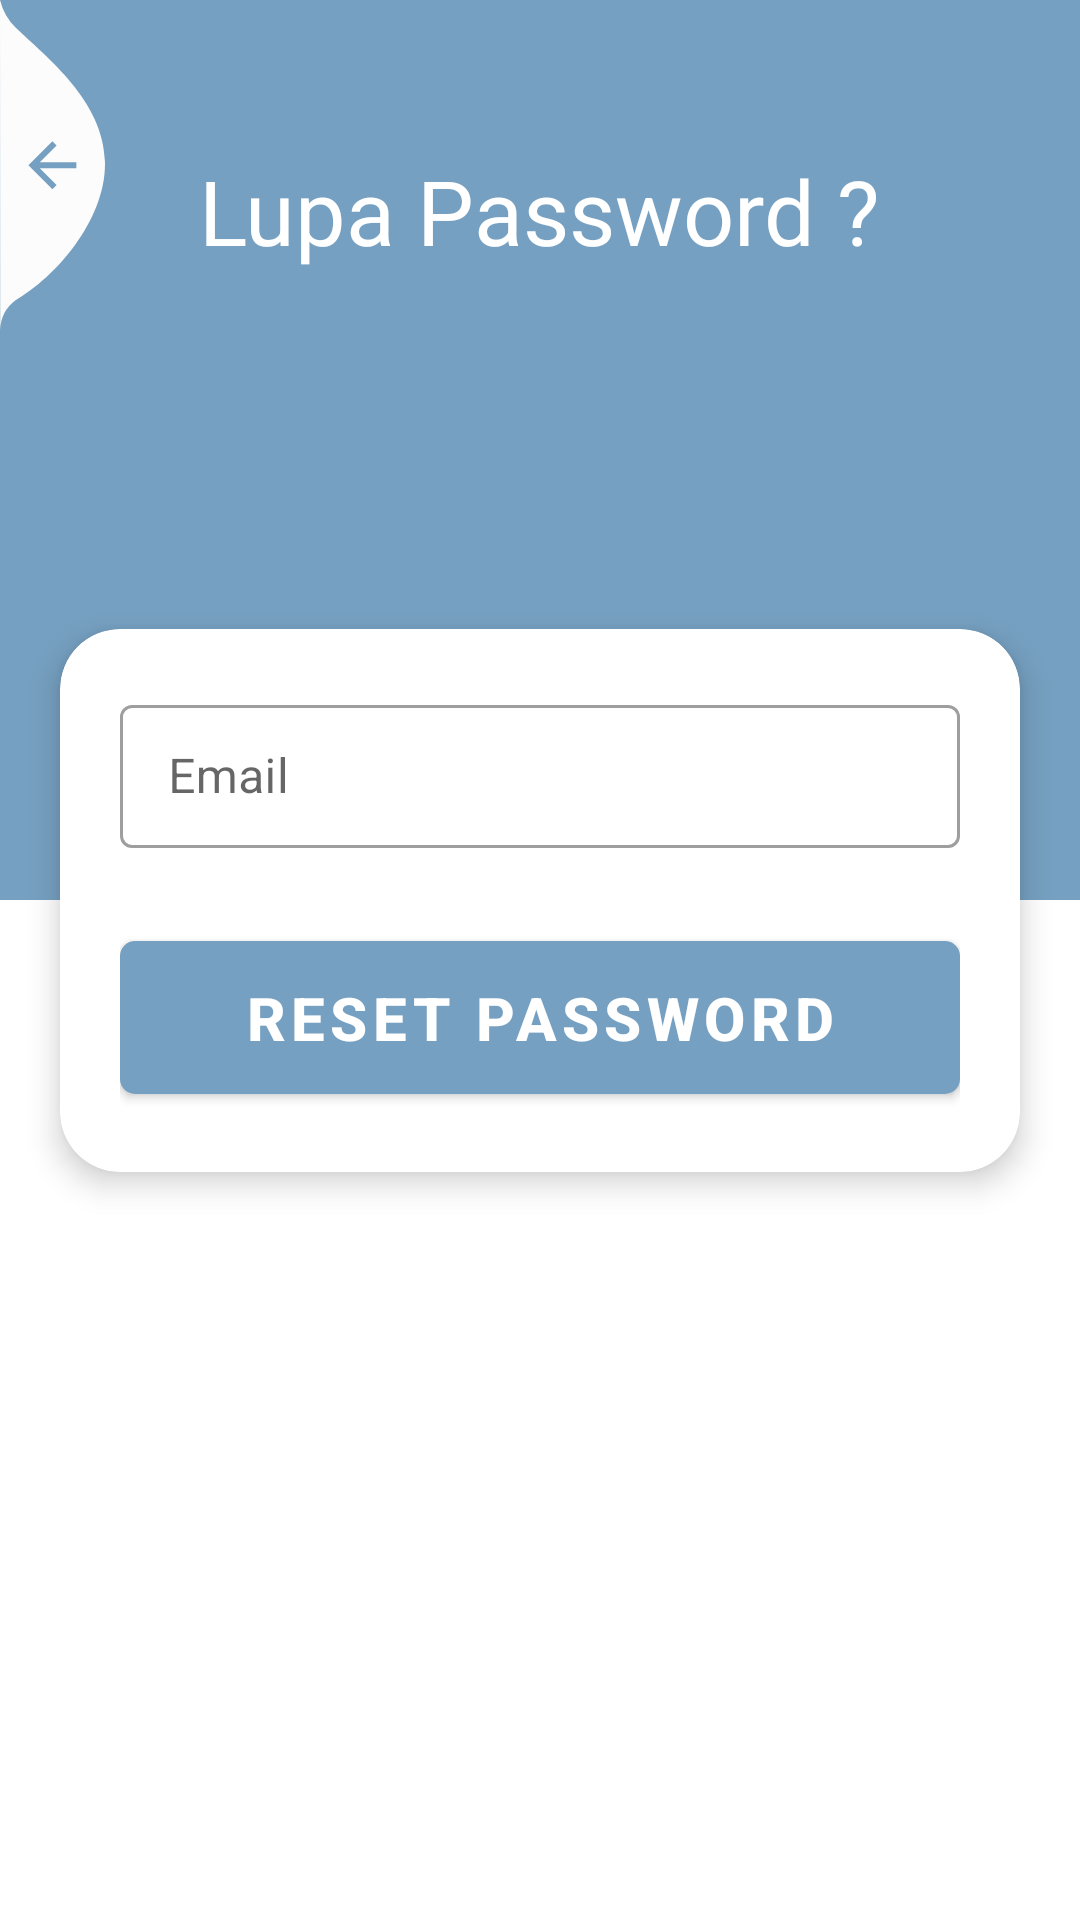

Where to tap for icons on this 1080 × 1920 app screen, as point (x, y):
back: point (52, 164)
